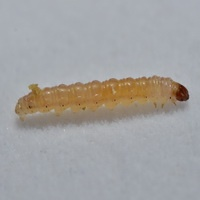insect: (15, 76, 188, 119)
